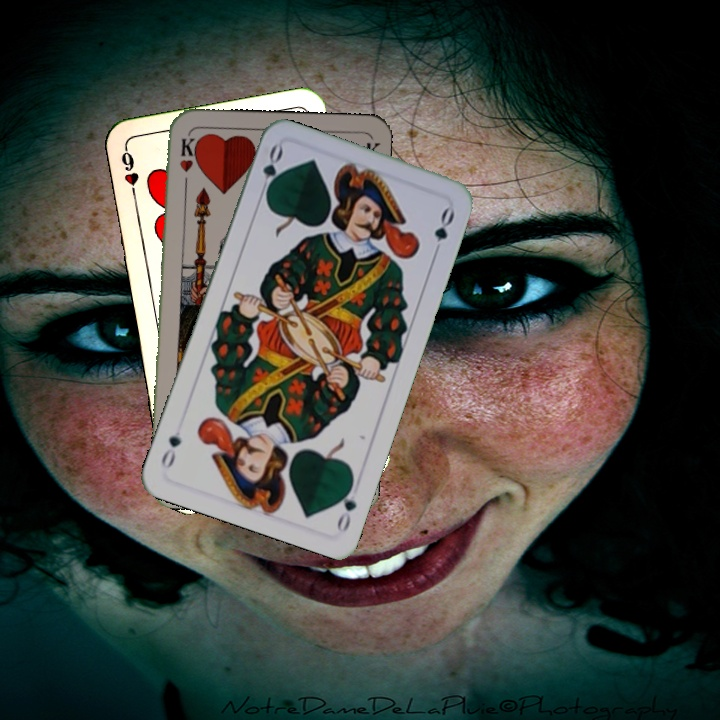GO: (255, 141, 286, 201), (332, 475, 360, 535)
H9: (117, 144, 141, 203)
HK: (176, 133, 197, 192)
